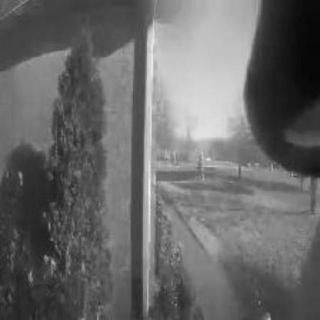other: (148, 188, 201, 312)
